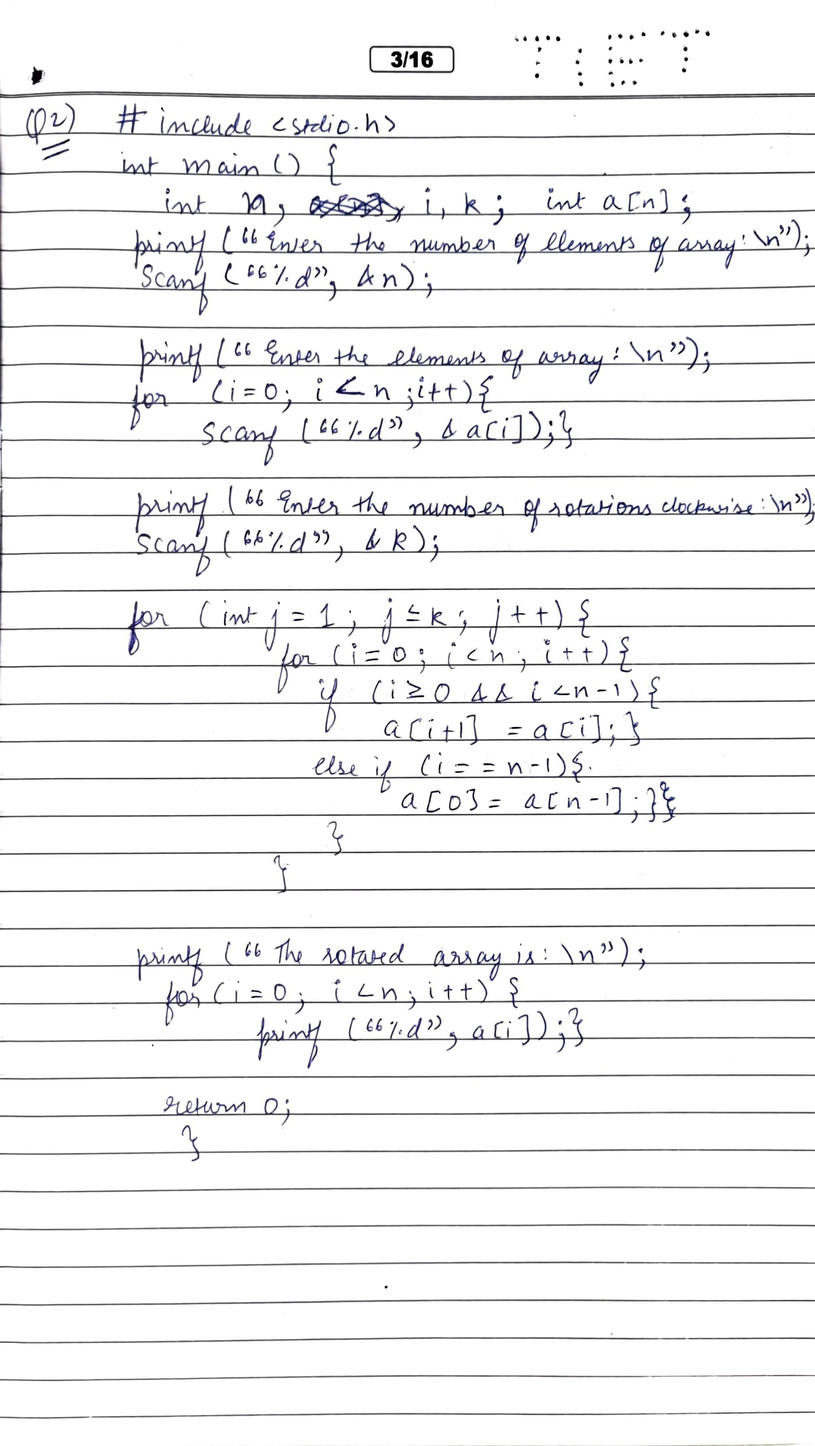cuttings: (305, 189, 407, 227)
